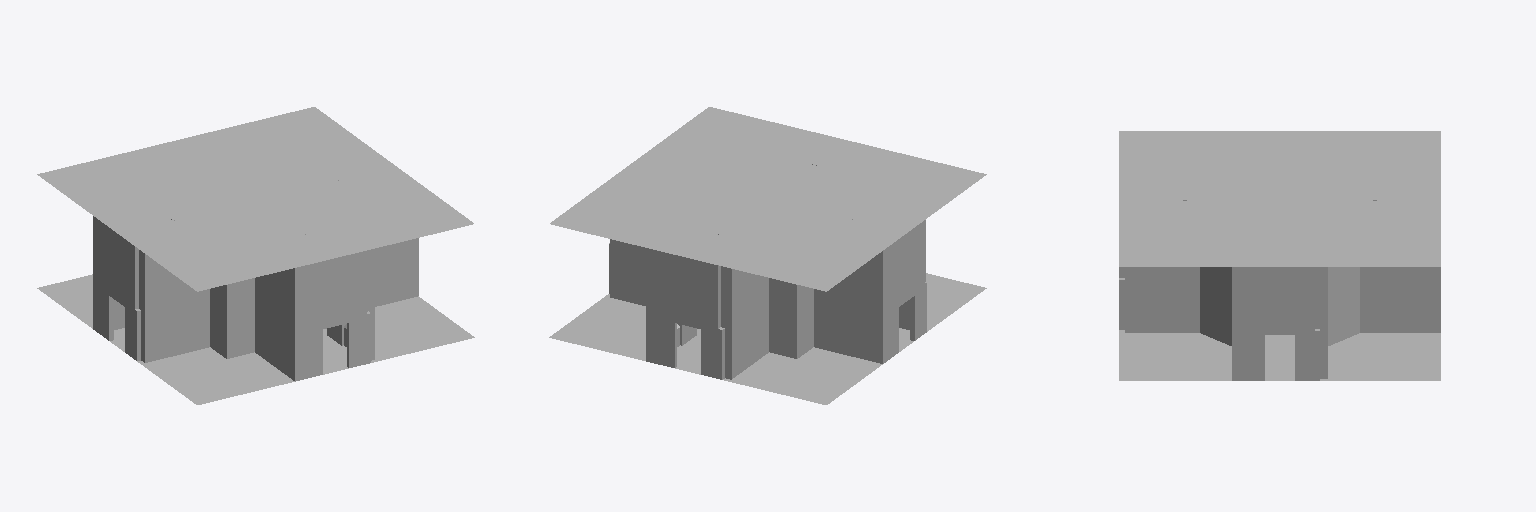
The model's file is LC_room4.obj.
The picture shows the model from 3 angles: view 1: azimuth 30°, elevation 25°; view 2: azimuth 150°, elevation 25°; view 3: azimuth 270°, elevation 25°; orthographic projection.
Parts seen in each view (by area): view 1: LC_room4; view 2: LC_room4; view 3: LC_room4.
Part boxes in pixels (left/top/right/bottom): LC_room4: left=37, top=107, right=474, bottom=404; LC_room4: left=549, top=107, right=986, bottom=404; LC_room4: left=1119, top=131, right=1440, bottom=380.
Bounding box in the file's own units: 20 × 7.82 × 20.